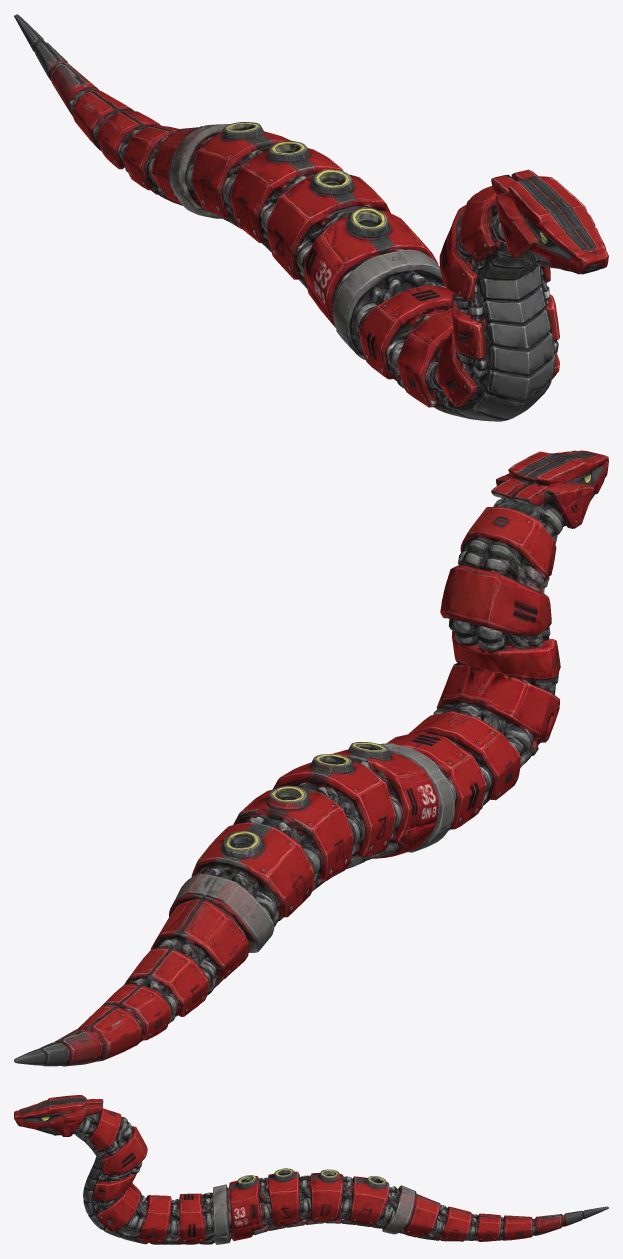
Rendered from snake.glb.
The picture shows the model from 3 angles, top to bottom: view 1: azimuth 30°, elevation 25°; view 2: azimuth 150°, elevation 25°; view 3: azimuth 270°, elevation 25°; orthographic projection. The views are drawn at different scales.
Bounding box in the file's own units: 0.3802 × 0.868 × 3.4.
1 material, 1 textured.
